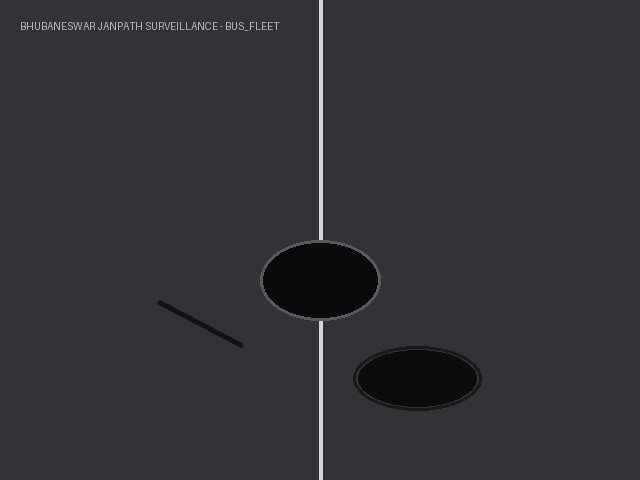crack: (153, 296, 247, 351)
pothole: (358, 350, 476, 406)
